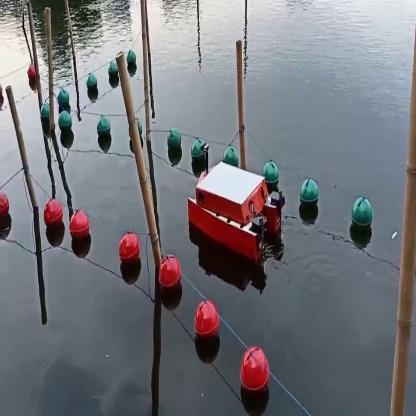green_buoy: (351, 194, 371, 240), (299, 176, 317, 215), (96, 115, 112, 151), (260, 160, 276, 188), (222, 144, 239, 166), (57, 86, 72, 110), (168, 129, 179, 156), (40, 101, 51, 127), (58, 112, 72, 132), (190, 137, 200, 158), (87, 78, 99, 95), (108, 62, 117, 78), (127, 52, 135, 70)
red_buoy: (238, 348, 268, 396), (156, 257, 184, 297), (192, 303, 218, 346), (68, 209, 94, 244), (43, 195, 62, 233), (118, 231, 138, 266), (0, 190, 13, 228), (26, 64, 36, 86)
